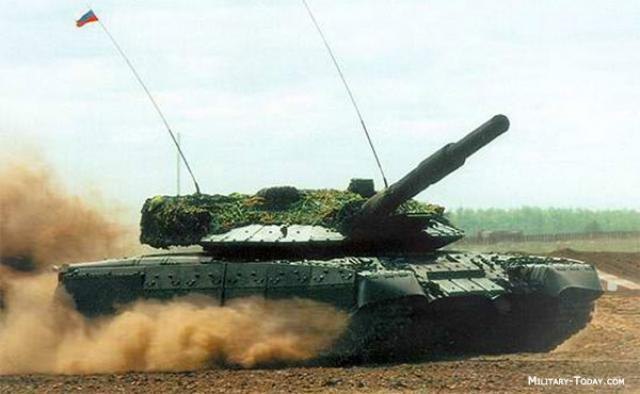tank: (67, 187, 596, 351)
